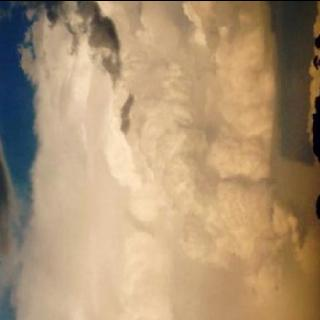Cumulonimbus: (14, 0, 312, 320)
